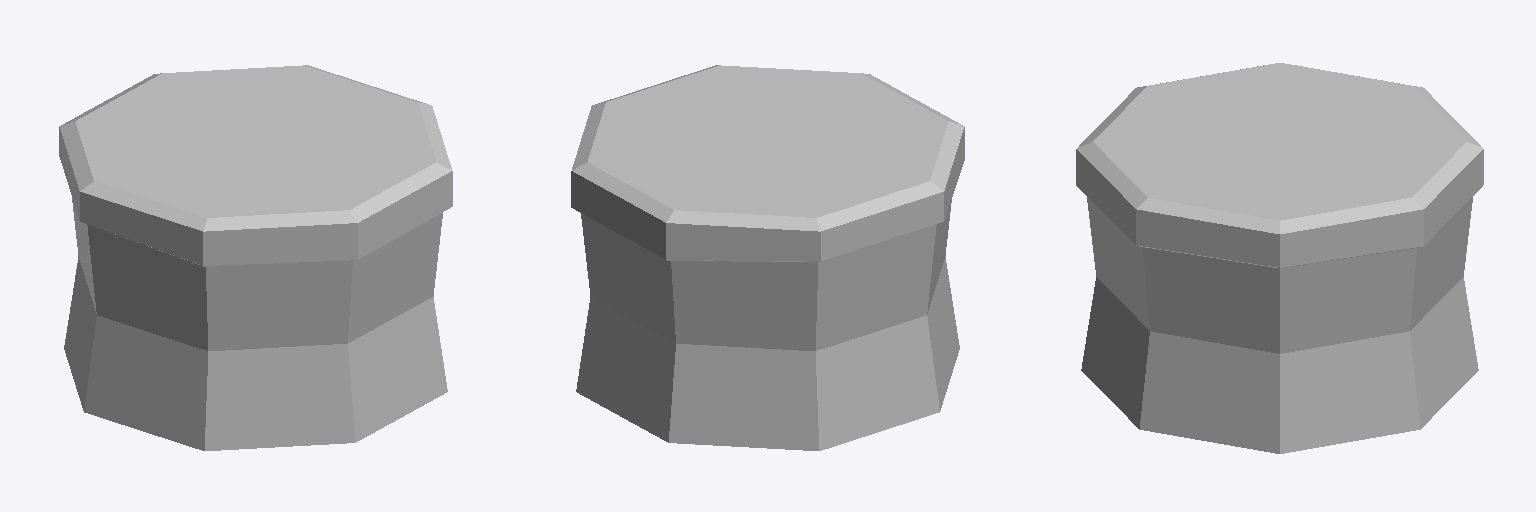
The model's file is rock2.obj.
The picture shows the model from 3 angles: view 1: azimuth 30°, elevation 25°; view 2: azimuth 150°, elevation 25°; view 3: azimuth 270°, elevation 25°; orthographic projection.
Visible parts, largest first — view 1: Circle.059, Circle.060; view 2: Circle.059, Circle.060; view 3: Circle.059, Circle.060.
Part boxes in pixels (bbox=[...]): Circle.059: bbox=[64, 198, 447, 450]; Circle.060: bbox=[59, 65, 452, 266]; Circle.059: bbox=[576, 200, 959, 450]; Circle.060: bbox=[571, 65, 964, 261]; Circle.059: bbox=[1081, 197, 1478, 453]; Circle.060: bbox=[1076, 63, 1483, 267].
Bounding box in the file's own units: 0.1218 × 0.0755 × 0.1218.